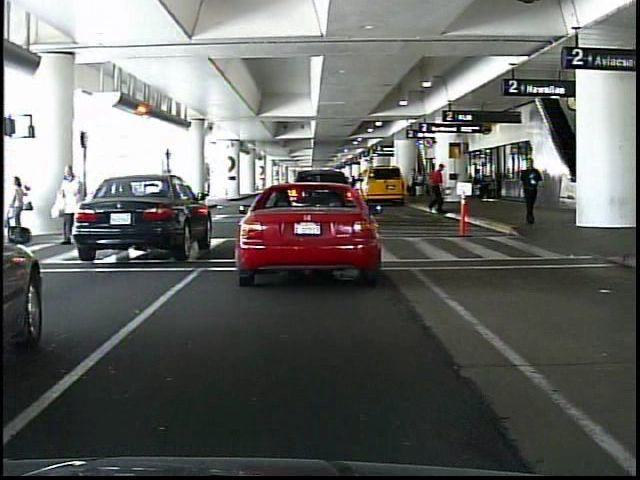person: (4, 173, 28, 245), (519, 154, 542, 227), (57, 164, 78, 241), (429, 164, 447, 217), (408, 167, 421, 203)
